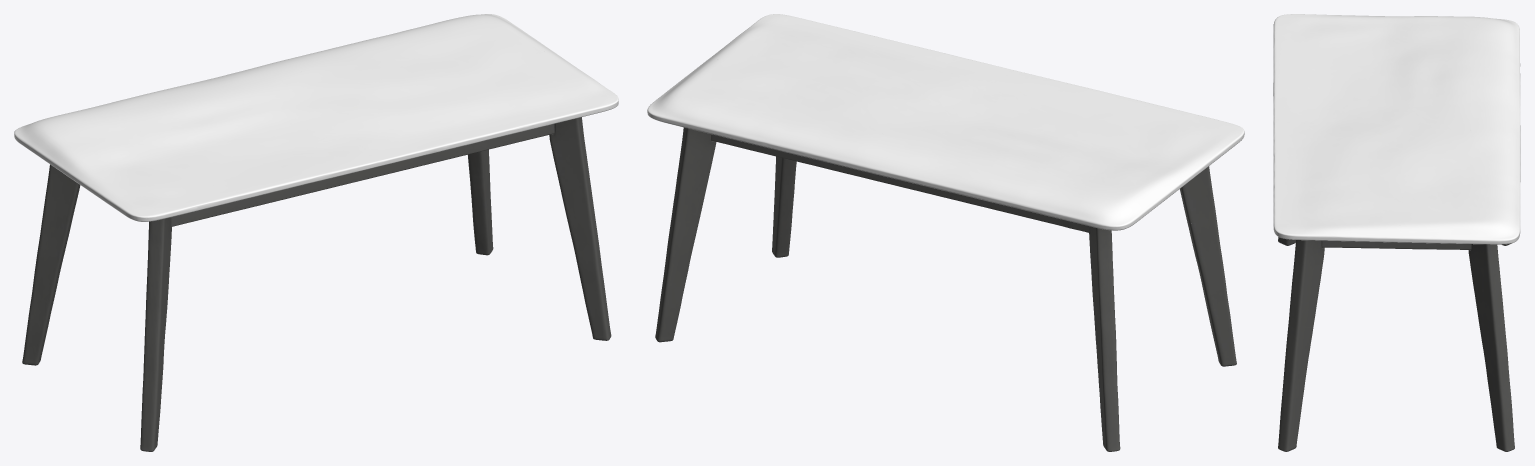
File: Evropa Plus.glb
3 views of the same model, side by side, from view 1: azimuth 30°, elevation 25°; view 2: azimuth 150°, elevation 25°; view 3: azimuth 270°, elevation 25° (orthographic). The views are drawn at different scales.
Visible parts, largest first — view 1: tripo_node_6071fbe0-25cb-4170-ac37-54b56f1dbc36; view 2: tripo_node_6071fbe0-25cb-4170-ac37-54b56f1dbc36; view 3: tripo_node_6071fbe0-25cb-4170-ac37-54b56f1dbc36.
Boxes of the visible parts, left/top/right/bottom form: tripo_node_6071fbe0-25cb-4170-ac37-54b56f1dbc36: left=14, top=14, right=618, bottom=451; tripo_node_6071fbe0-25cb-4170-ac37-54b56f1dbc36: left=647, top=14, right=1244, bottom=451; tripo_node_6071fbe0-25cb-4170-ac37-54b56f1dbc36: left=1273, top=14, right=1520, bottom=451.
Size of the model in its own units: 0.9802 by 0.4678 by 0.4612.
Materials: 1 (1 with a texture image).
